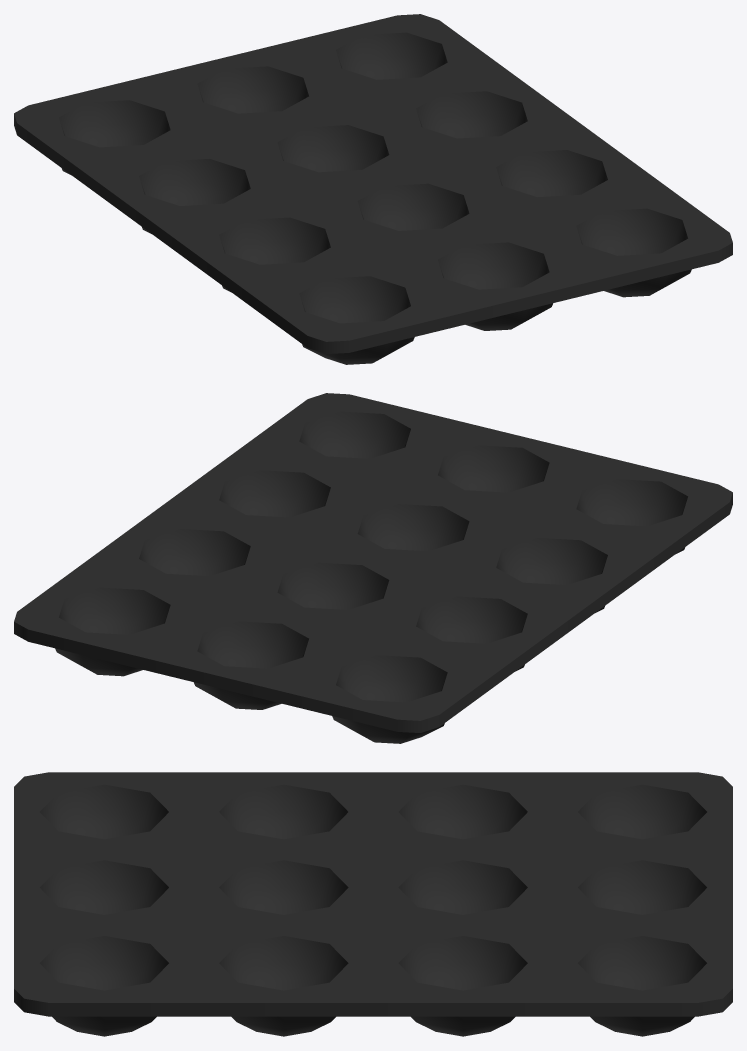
Rendered from BakingMold_Silicone_01.fbx.
3 views of the same model, one above another, from view 1: azimuth 30°, elevation 25°; view 2: azimuth 150°, elevation 25°; view 3: azimuth 270°, elevation 25° (orthographic). The views are drawn at different scales.
Parts seen in each view (by area): view 1: BakingMold_Silicone_01; view 2: BakingMold_Silicone_01; view 3: BakingMold_Silicone_01.
Boxes of the visible parts, x1,y1,x2,y2 form: BakingMold_Silicone_01: (14,14,732,364); BakingMold_Silicone_01: (14,393,732,743); BakingMold_Silicone_01: (14,772,732,1036).
Size of the model in its own units: 0.2022 by 0.0261 by 0.2666.
